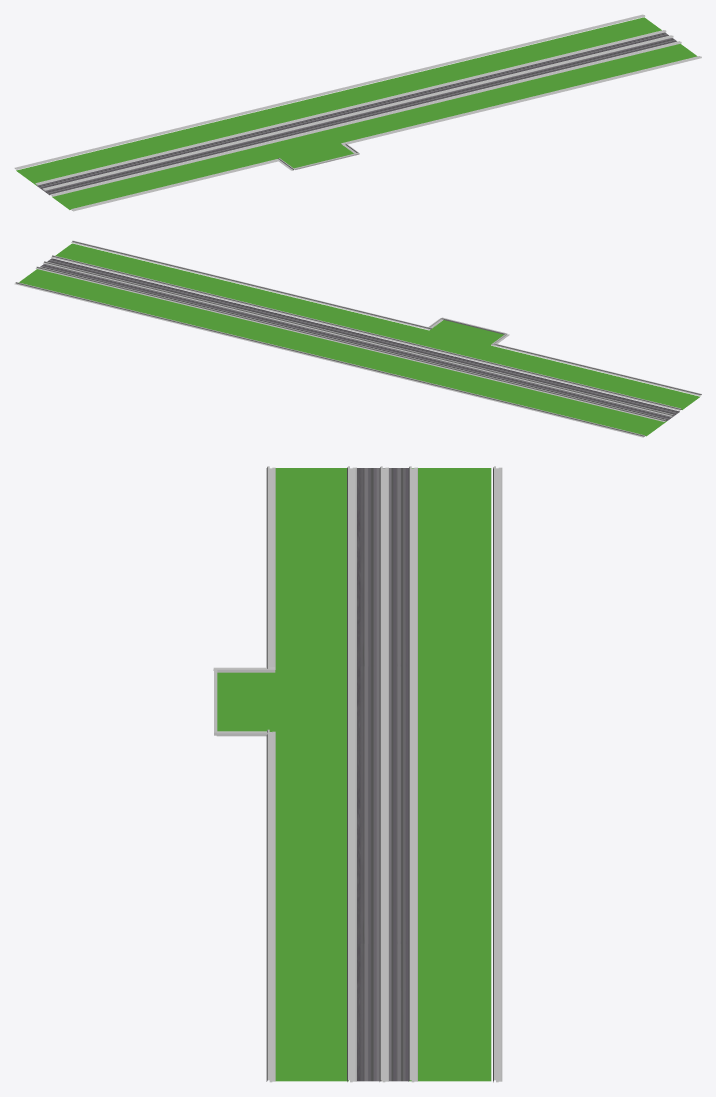
Rendered from Road.fbx.
3 renders of one model, top to bottom at view 1: azimuth 30°, elevation 25°; view 2: azimuth 150°, elevation 25°; view 3: azimuth 270°, elevation 25°, orthographic. The views are drawn at different scales.
Parts seen in each view (by area): view 1: road2, road1, road, gutter, gutter4, gutter7, gutter2, gutter3; view 2: road1, road2, road, gutter, gutter4, gutter2, gutter7, gutter3; view 3: road2, road1, road, gutter7, gutter, gutter2, gutter4, gutter3.
Boxes of the visible parts, left/top/right/bottom form: road2: left=52, top=43, right=697, bottom=209; road1: left=16, top=17, right=661, bottom=185; road: left=37, top=32, right=676, bottom=195; gutter: left=50, top=41, right=681, bottom=196; gutter4: left=14, top=14, right=645, bottom=169; gutter7: left=43, top=35, right=673, bottom=190; gutter2: left=35, top=30, right=666, bottom=185; gutter3: left=71, top=56, right=701, bottom=211; road1: left=19, top=269, right=666, bottom=436; road2: left=55, top=243, right=700, bottom=409; road: left=40, top=258, right=679, bottom=420; gutter: left=51, top=255, right=681, bottom=410; gutter4: left=14, top=282, right=644, bottom=437; gutter2: left=35, top=266, right=666, bottom=421; gutter7: left=43, top=261, right=673, bottom=416; gutter3: left=71, top=240, right=701, bottom=395; road2: left=217, top=468, right=348, bottom=1081; road1: left=409, top=468, right=491, bottom=1081; road: left=357, top=468, right=408, bottom=1081; gutter7: left=379, top=466, right=388, bottom=1082; gutter: left=347, top=466, right=356, bottom=1082; gutter2: left=408, top=466, right=417, bottom=1082; gutter4: left=493, top=466, right=502, bottom=1082; gutter3: left=266, top=466, right=275, bottom=1082.
Size of the model in its own units: 176 by 0.3226 by 34.91.
